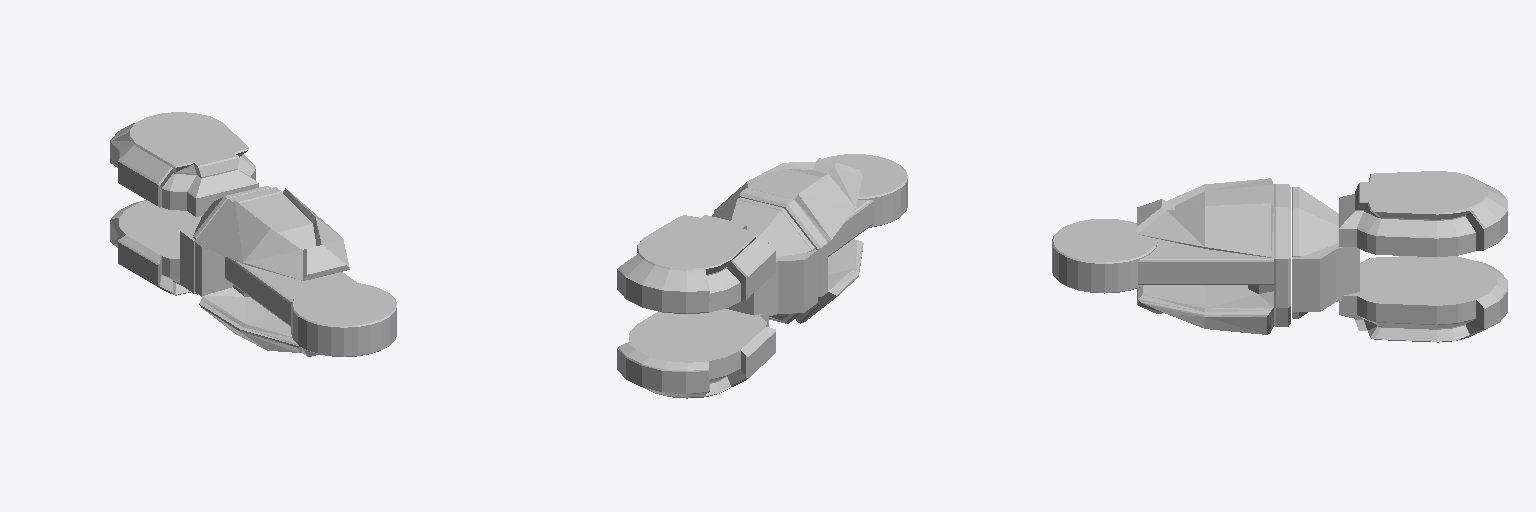
File: l-upper-arm.obj
3 views of the same model, side by side, from view 1: azimuth 30°, elevation 25°; view 2: azimuth 150°, elevation 25°; view 3: azimuth 270°, elevation 25° (orthographic).
Parts seen in each view (by area): view 1: l-upper-arm.obj; view 2: l-upper-arm.obj; view 3: l-upper-arm.obj.
Boxes of the visible parts, x1,y1,x2,y2 form: l-upper-arm.obj: [110, 112, 396, 356]; l-upper-arm.obj: [617, 154, 907, 398]; l-upper-arm.obj: [1052, 171, 1507, 342].
Bounding box in the file's own units: 0.1091 × 0.1085 × 0.3445.